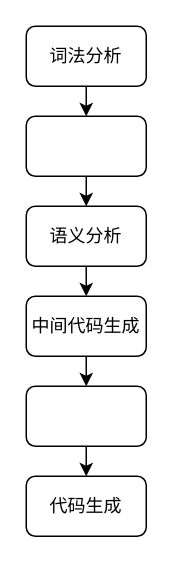
Some shapes in this 173 by 563 pixel diagram are drawn without their labels. The box of each missing label's shape, as (x1, y1, x2, y2) in pixels:
代码优化: (25, 385, 146, 446)
语法分析: (25, 115, 146, 176)
